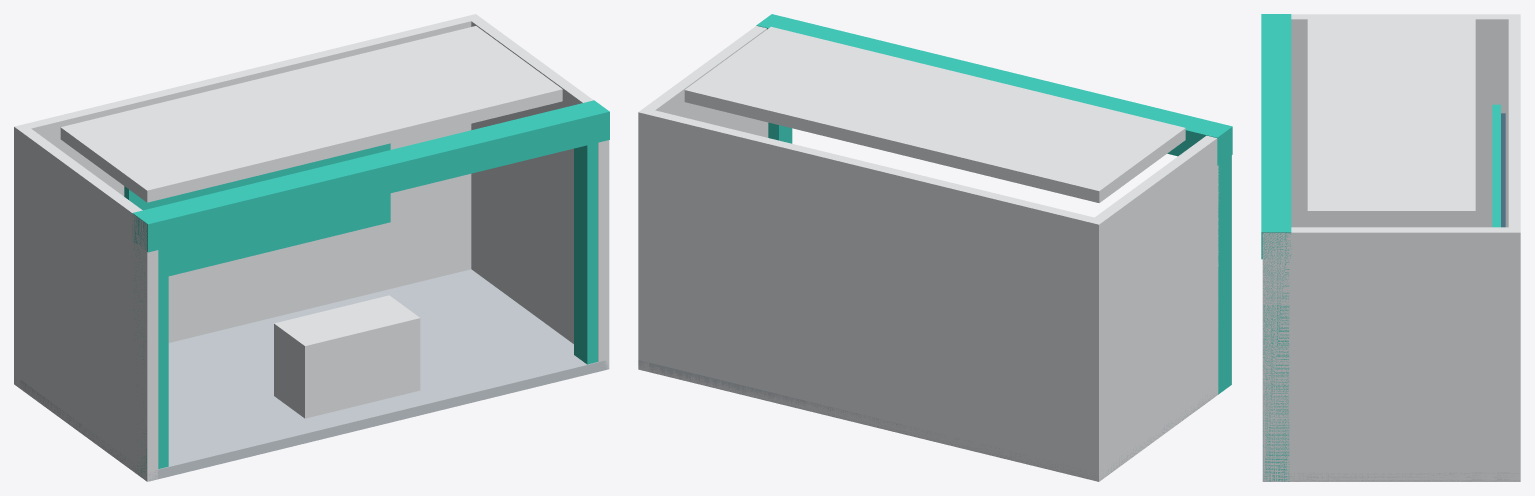
The picture shows the model from 3 angles, left to right: view 1: azimuth 30°, elevation 25°; view 2: azimuth 150°, elevation 25°; view 3: azimuth 270°, elevation 25°; orthographic projection. The views are drawn at different scales.
Visible parts, largest first — view 1: Exhibition Booth Concept; view 2: Exhibition Booth Concept; view 3: Exhibition Booth Concept.
Boxes of the visible parts, bbox=[...] form: Exhibition Booth Concept: bbox=[14, 14, 609, 481]; Exhibition Booth Concept: bbox=[638, 14, 1232, 481]; Exhibition Booth Concept: bbox=[1261, 14, 1520, 481].
Size of the model in its own units: 6 by 3.34 by 3.01.
